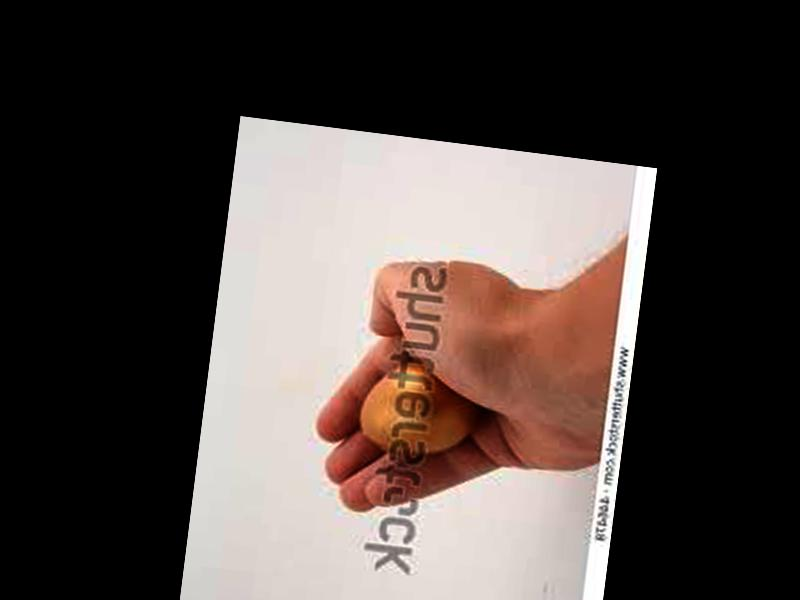Eggs: (356, 359, 480, 461)
